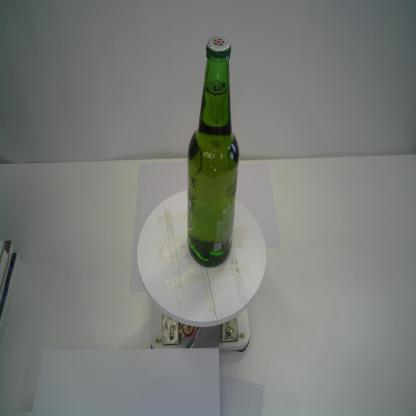Alcohol: (185, 34, 241, 272)
